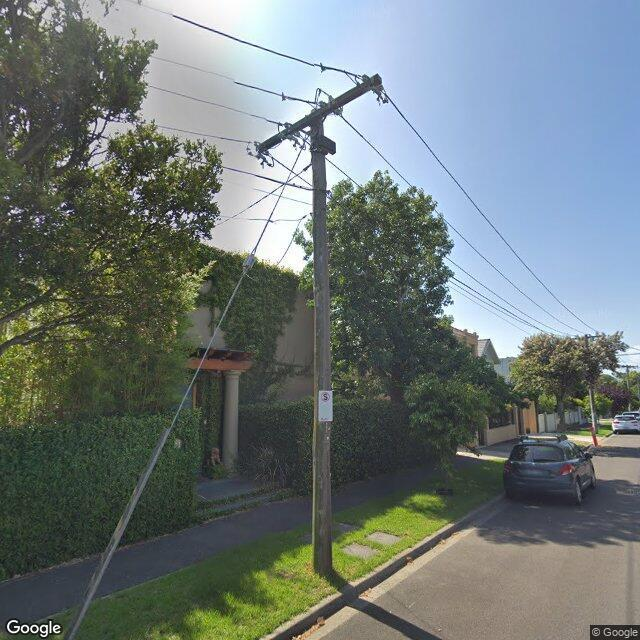crossarm: (256, 72, 382, 156), (571, 334, 601, 340), (619, 365, 639, 368)
timber-pole: (310, 106, 332, 574), (584, 334, 597, 434), (626, 364, 632, 410)
